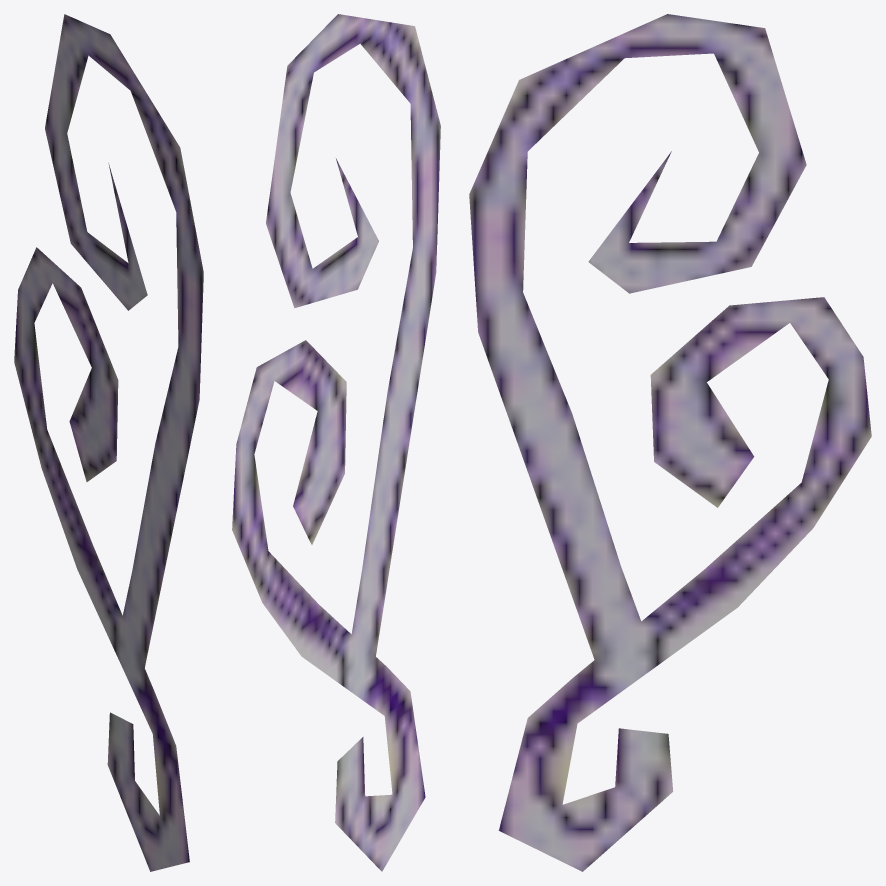
3 renders of one model, left to right at view 1: azimuth 30°, elevation 25°; view 2: azimuth 150°, elevation 25°; view 3: azimuth 270°, elevation 25°, orthographic. The views are drawn at different scales.
Visible parts, largest first — view 1: Picsart_22-01-21_15-37-57-171.004; view 2: Picsart_22-01-21_15-37-57-171.004; view 3: Picsart_22-01-21_15-37-57-171.004.
Part boxes in pixels (<box>): Picsart_22-01-21_15-37-57-171.004: <box>14,14,203,871</box>; Picsart_22-01-21_15-37-57-171.004: <box>232,14,440,871</box>; Picsart_22-01-21_15-37-57-171.004: <box>469,14,871,871</box>.
Size of the model in its own units: 1.57e-07 by 2.27 by 0.966.
Materials: 1 (1 with a texture image).
